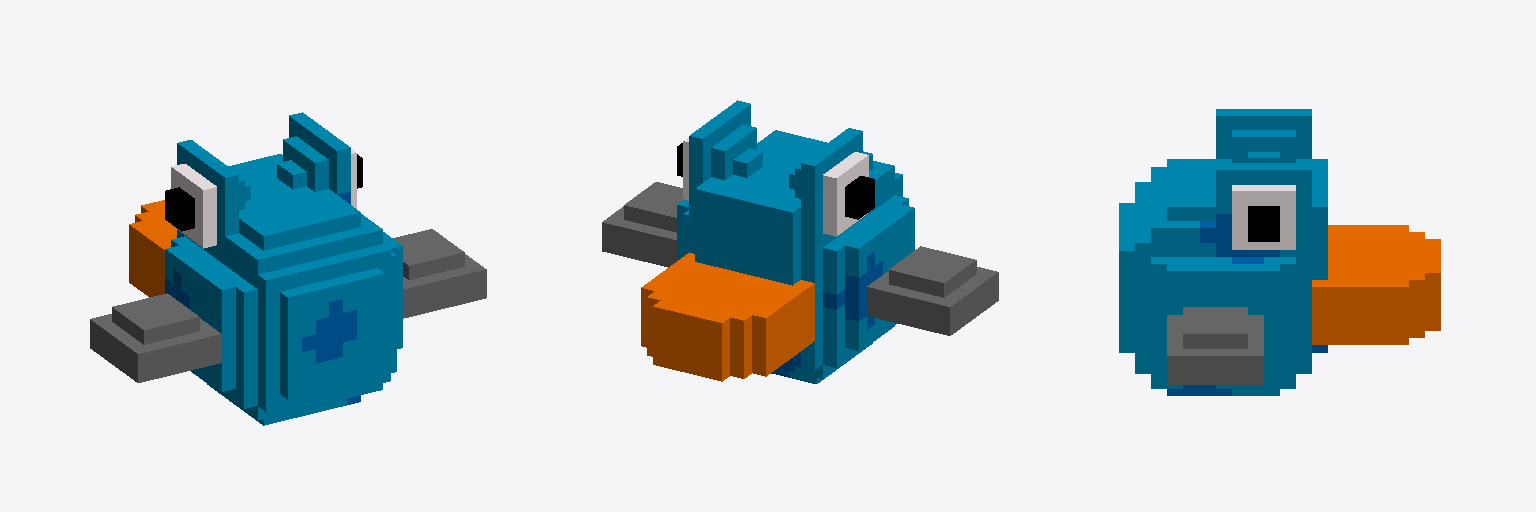
The picture shows the model from 3 angles: view 1: azimuth 30°, elevation 25°; view 2: azimuth 150°, elevation 25°; view 3: azimuth 270°, elevation 25°; orthographic projection.
Parts seen in each view (by area): view 1: object 1; view 2: object 1; view 3: object 1.
Part boxes in pixels (bbox=[...]): object 1: bbox=[90, 112, 486, 425]; object 1: bbox=[602, 100, 998, 383]; object 1: bbox=[1119, 109, 1440, 395].
Size of the model in its own units: 2.5 by 1.6 by 2.
Materials: 1 (1 with a texture image).